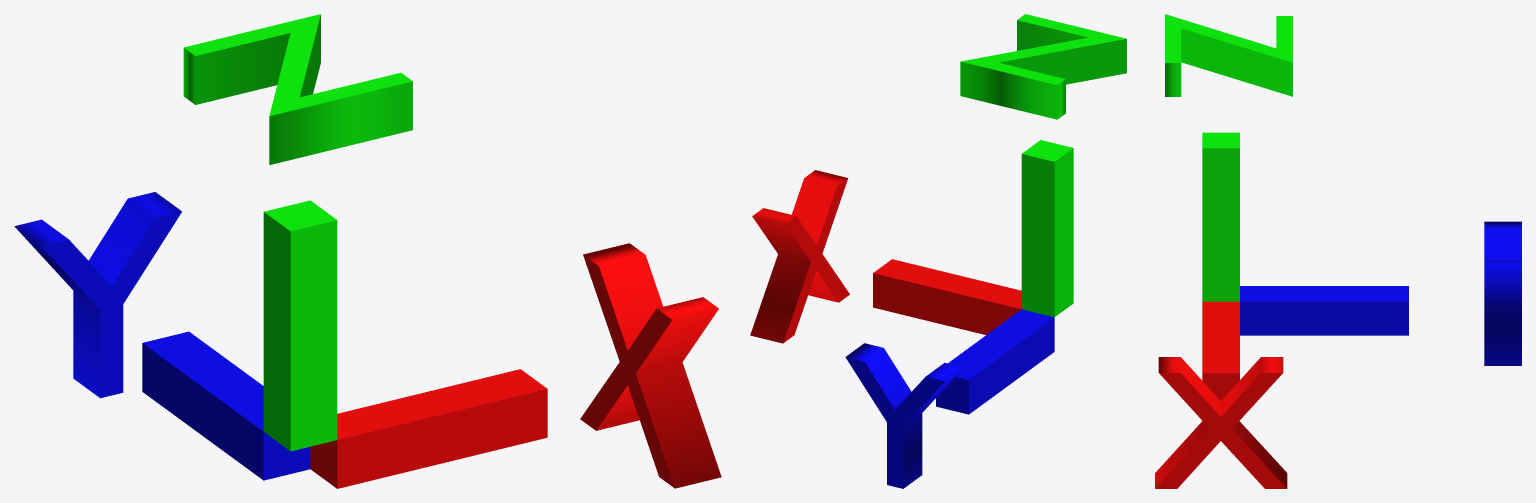
Rendered from unit_axis.obj.
3 views of the same model, side by side, from view 1: azimuth 30°, elevation 25°; view 2: azimuth 150°, elevation 25°; view 3: azimuth 270°, elevation 25° (orthographic). The views are drawn at different scales.
Visible parts, largest first — view 1: X_LABEL, Z_AXIS, Z_LABEL, X_AXIS, Y_LABEL, Y_AXIS; view 2: Z_LABEL, X_LABEL, Z_AXIS, X_AXIS, Y_LABEL, Y_AXIS; view 3: X_LABEL, Y_AXIS, Z_LABEL, Z_AXIS, Y_LABEL, X_AXIS.
Part boxes in pixels (bbox=[...]): X_LABEL: bbox=[580, 243, 721, 488]; Z_AXIS: bbox=[263, 200, 337, 451]; Z_LABEL: bbox=[183, 14, 412, 164]; X_AXIS: bbox=[310, 369, 547, 488]; Y_LABEL: bbox=[14, 192, 181, 398]; Y_AXIS: bbox=[142, 331, 310, 480]; Z_LABEL: bbox=[960, 14, 1126, 119]; X_LABEL: bbox=[750, 170, 849, 343]; Z_AXIS: bbox=[1021, 140, 1073, 317]; X_AXIS: bbox=[873, 259, 1021, 334]; Y_LABEL: bbox=[845, 343, 963, 488]; Y_AXIS: bbox=[936, 309, 1054, 414]; X_LABEL: bbox=[1155, 357, 1287, 488]; Y_AXIS: bbox=[1240, 286, 1408, 335]; Z_LABEL: bbox=[1165, 14, 1292, 96]; Z_AXIS: bbox=[1202, 132, 1239, 301]; Y_LABEL: bbox=[1484, 221, 1521, 365]; X_AXIS: bbox=[1202, 301, 1239, 400].
Size of the model in its own units: 1.91 by 1.9 by 1.95.
